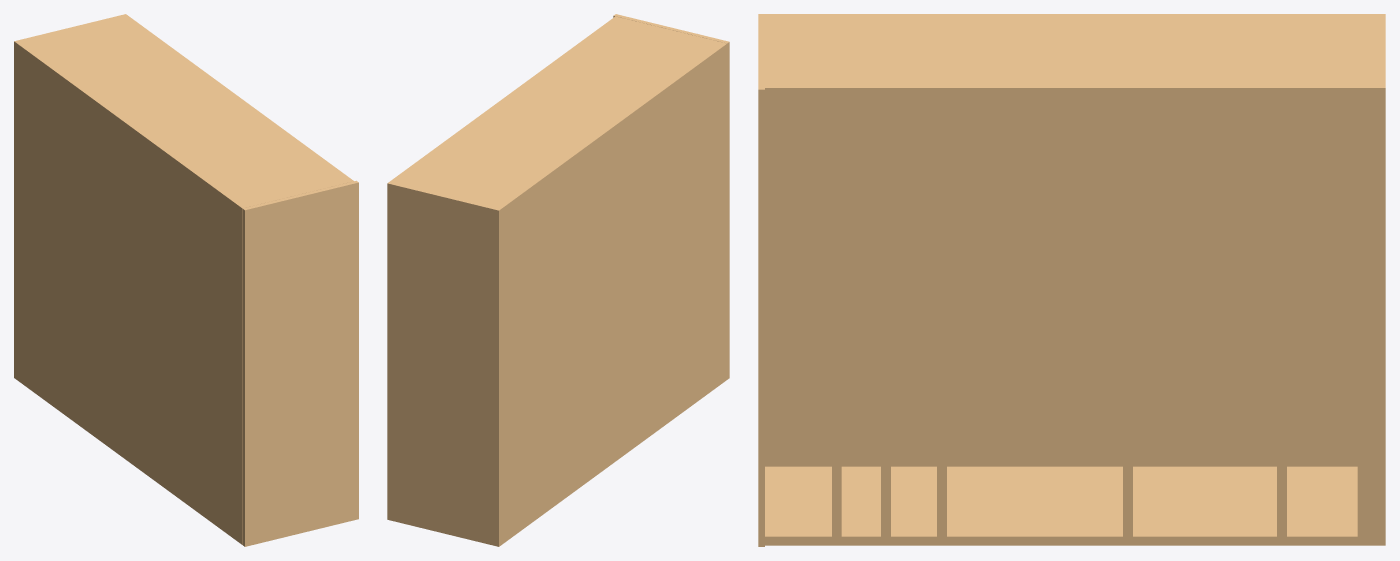
The picture shows the model from 3 angles, left to right: view 1: azimuth 30°, elevation 25°; view 2: azimuth 150°, elevation 25°; view 3: azimuth 270°, elevation 25°; orthographic projection. The views are drawn at different scales.
Visible parts, largest first — view 1: ROOT_link (×5); view 2: ROOT_link (×5); view 3: ROOT_link (×10).
Boxes of the visible parts, x1=… form: ROOT_link (×5): x1=14, y1=14, x2=358, y2=546; ROOT_link (×5): x1=387, y1=14, x2=729, y2=546; ROOT_link (×10): x1=758, y1=14, x2=1385, y2=546.
Bounding box in the file's own units: 0.544 × 1.54 × 1.91.
